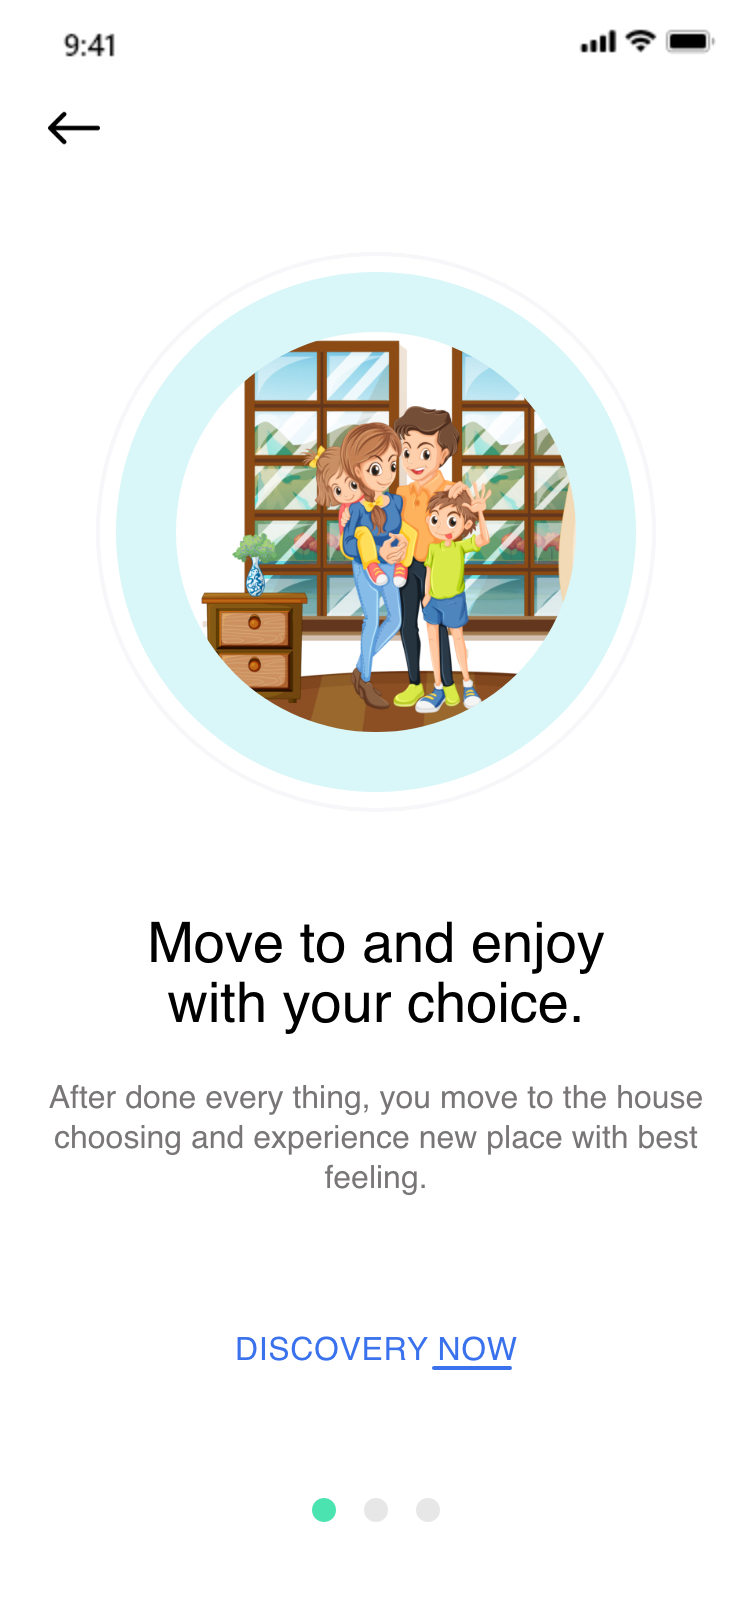Icon: (48, 112, 102, 146)
Image: (95, 251, 658, 816)
PageIndicator: (312, 1497, 442, 1523)
Text: (49, 1084, 703, 1196), (150, 920, 605, 1035), (237, 1335, 518, 1371)
UpperTaskBar: (64, 28, 717, 59)
